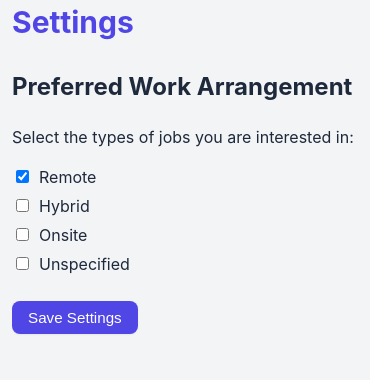
Test: Settings Component › shows error if Firestore fails
The width and height of the screenshot is (370, 380).
Step 1. Click the button "Save Settings" → (75, 317), box x1=12 y1=301 x2=138 y2=334
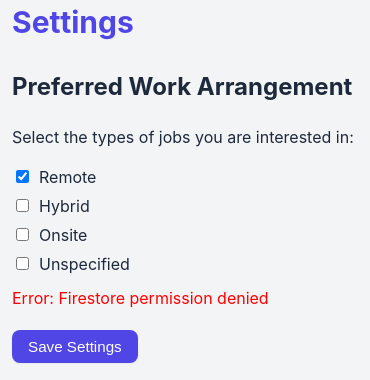
Now the text "Error: Firestore permission denied" is shown, box x1=12 y1=288 x2=269 y2=308
